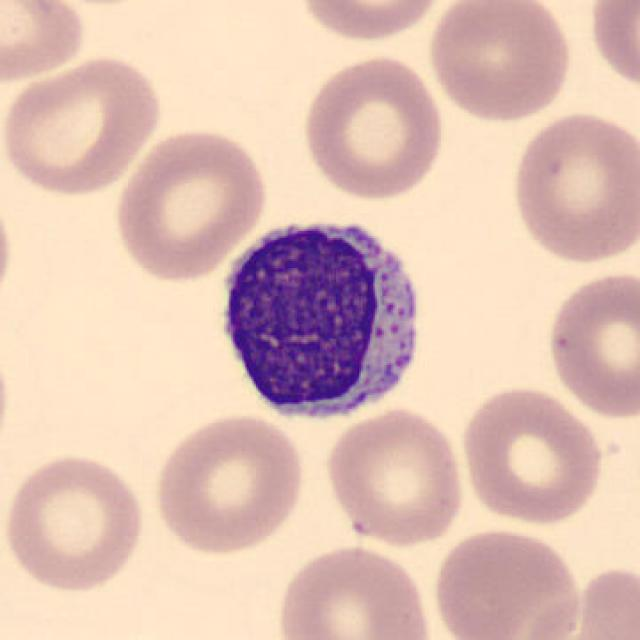Lymphocyte: (204, 204, 436, 432)
RBC: (110, 123, 272, 284), (0, 53, 167, 197), (150, 409, 310, 559), (297, 51, 448, 203), (457, 381, 608, 527), (0, 449, 149, 594), (320, 404, 468, 548), (507, 108, 638, 268), (423, 0, 578, 125), (428, 523, 583, 640), (271, 539, 437, 640), (542, 266, 638, 422), (519, 564, 640, 640), (0, 0, 89, 86), (293, 0, 450, 44), (585, 0, 638, 99)
